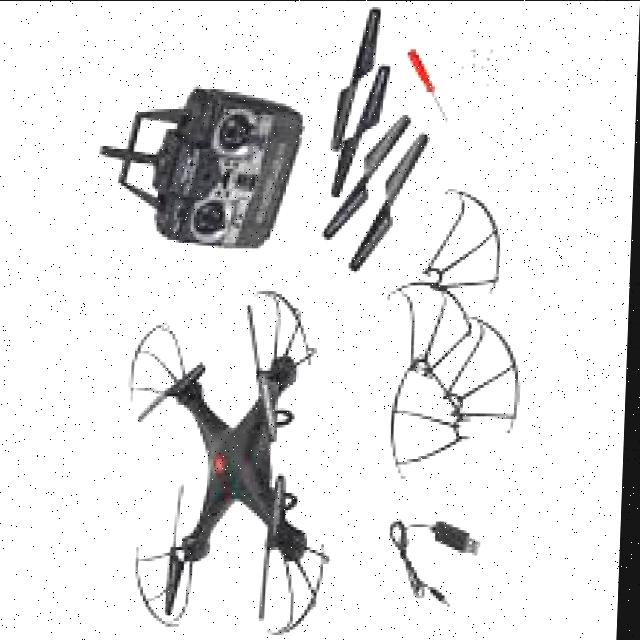drone: (108, 289, 351, 639)
